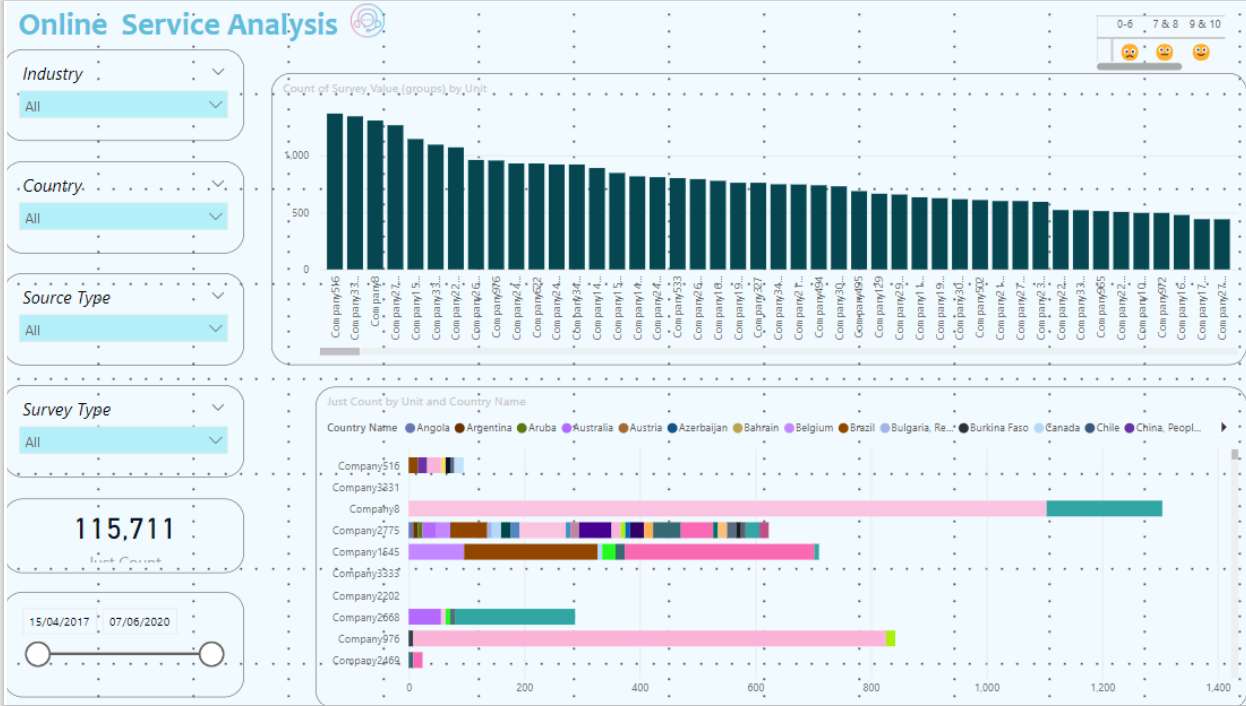

This screenshot's page, from the dashboard's own definition file:
{"tool":"powerbi","page":{"name":"Duplicate of Duplicate of Survey Type","canvas":[1280,720],"ordinal":2},"visuals":[{"type":"textbox","box":[10,0,445.7,60],"z":0},{"type":"image","box":[330.9,0,73.7,44.6],"z":1000},{"type":"slicer","fields":{"Values":["NPS.Industry"]},"box":[0,52.2,243.4,92.6],"z":2000},{"type":"slicer","fields":{"Values":["CountryList.Country Name"]},"box":[0,164.5,243.3,93.3],"z":3000},{"type":"slicer","fields":{"Values":["NPS.Source Type"]},"box":[0,277.5,243.3,93.3],"z":4000},{"type":"card","fields":{"Values":["NPS.Just Count"]},"box":[0,505,243.3,75],"z":5000},{"type":"slicer","fields":{"Values":["NPS.Survey Type"]},"box":[0,390.6,243.3,93.3],"z":6000},{"type":"slicer","fields":{"Values":["NPS.Response Date"]},"box":[0,600,243.3,106.7],"z":7000},{"type":"pivotTable","fields":{"Columns":["Emoji.Score"],"Values":["Min(Emoji.EmojiIcon)"]},"box":[1083.3,0,155,78.3],"z":8000},{"type":"clusteredColumnChart","fields":{"Category":["NPS.Unit"],"Y":["CountNonNull(NPS.Survey Value (groups))"]},"box":[271.2,74.7,985.9,295.6],"z":9000},{"type":"barChart","fields":{"Category":["NPS.Unit"],"Series":["CountryList.Country Name"],"Y":["NPS.Just Count"]},"box":[315,393.3,941.7,326.7],"z":10000}]}

Visuals, with their boxes in screenshot pixels (x1, y1, x2, y2), scaled from the page's 1280x720 canvas onto the 1246x706 screenshot:
textbox: locate(10, 0, 444, 59)
image: locate(322, 0, 394, 44)
slicer - NPS.Industry: locate(0, 51, 237, 142)
slicer - CountryList.Country Name: locate(0, 161, 237, 253)
slicer - NPS.Source Type: locate(0, 272, 237, 364)
card - NPS.Just Count: locate(0, 495, 237, 569)
slicer - NPS.Survey Type: locate(0, 383, 237, 474)
slicer - NPS.Response Date: locate(0, 588, 237, 693)
pivotTable - Emoji.Score x Min(Emoji.EmojiIcon): locate(1055, 0, 1205, 77)
clusteredColumnChart - NPS.Unit x CountNonNull(NPS.Survey Value (groups)): locate(264, 73, 1224, 363)
barChart - NPS.Unit x CountryList.Country Name: locate(307, 386, 1223, 705)
